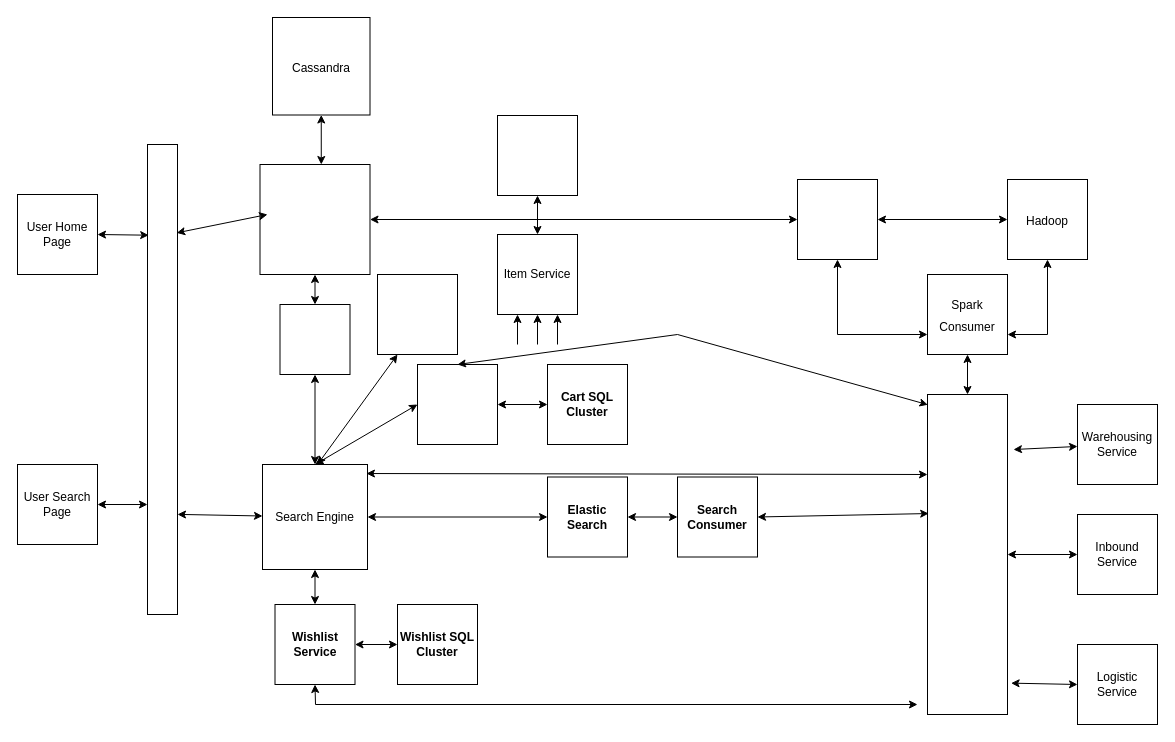
This 1175x742 diagram has some shape labels left out. The centre of each missing label's shape, as x and y in pixels:
"cart service" belongs at (457,404).
"Kafka" belongs at (967,554).
"Mongo DB" belongs at (537,155).
"Recommendation Service" belongs at (314,219).
"Serviceability + TAT service" belongs at (417,314).
"Spark Job" belongs at (837,219).
"User Service" belongs at (314,339).
